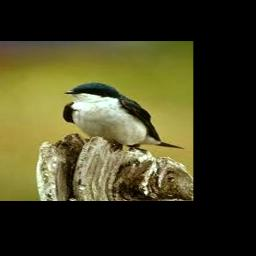Swallow: (63, 82, 183, 150)
